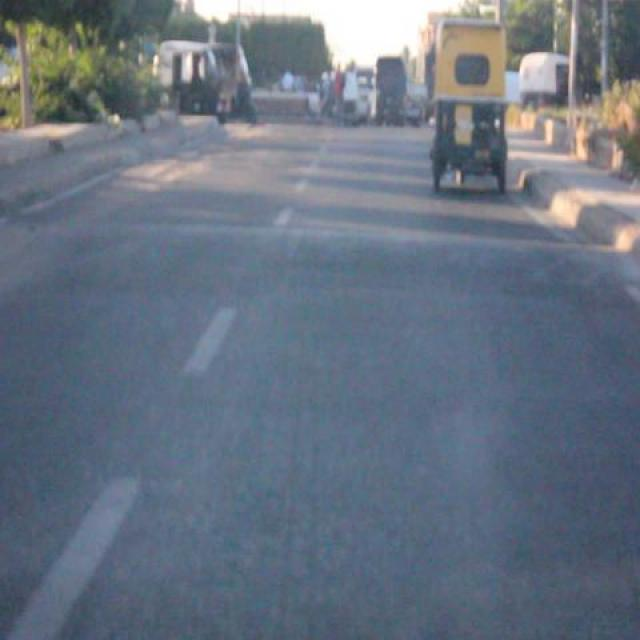Unmarked Bump: (4, 220, 640, 308)
